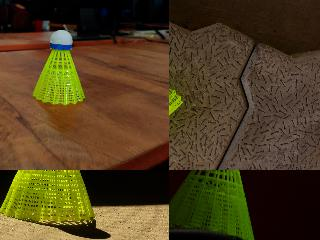shuttlecock: (169, 170, 255, 239), (0, 170, 95, 222), (33, 30, 85, 104), (169, 74, 183, 153)
